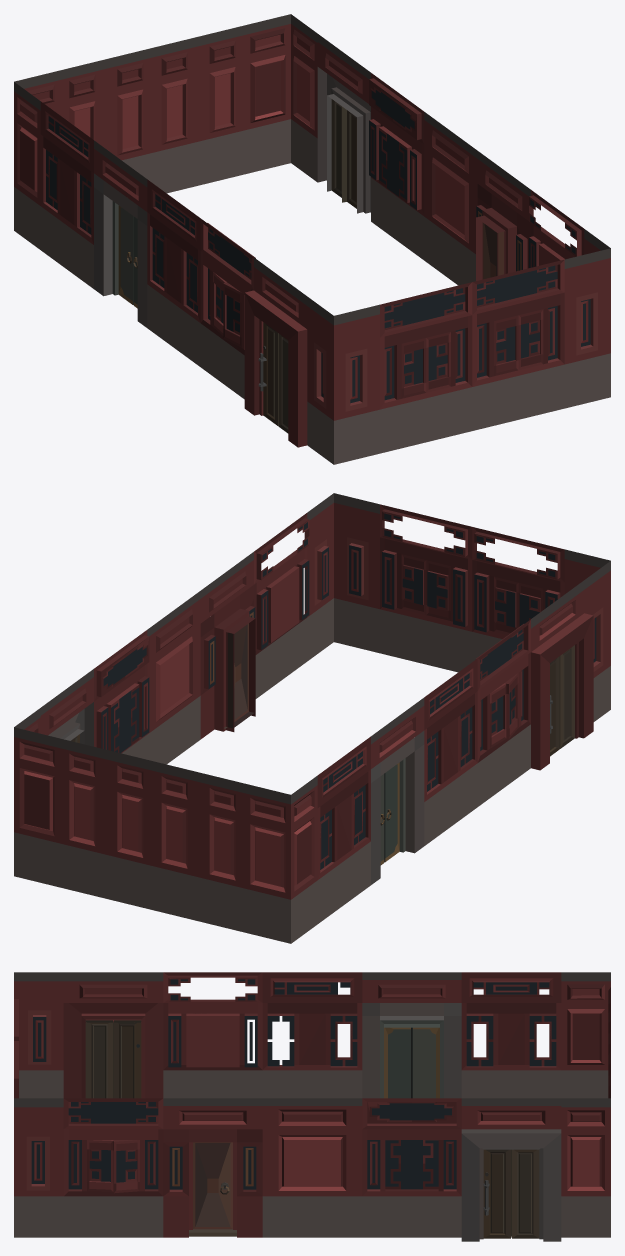
Rendered from BuildingA-Ext_C.fbx.
3 views of the same model, one above another, from view 1: azimuth 30°, elevation 25°; view 2: azimuth 150°, elevation 25°; view 3: azimuth 270°, elevation 25° (orthographic). The views are drawn at different scales.
Visible parts, largest first — view 1: BuildingA-Ext_C; view 2: BuildingA-Ext_C; view 3: BuildingA-Ext_C.
Boxes of the visible parts, <box> form: BuildingA-Ext_C: <box>14,14,610,464</box>; BuildingA-Ext_C: <box>14,493,610,943</box>; BuildingA-Ext_C: <box>14,972,610,1241</box>.
Size of the model in its own units: 800 by 386 by 1500.
